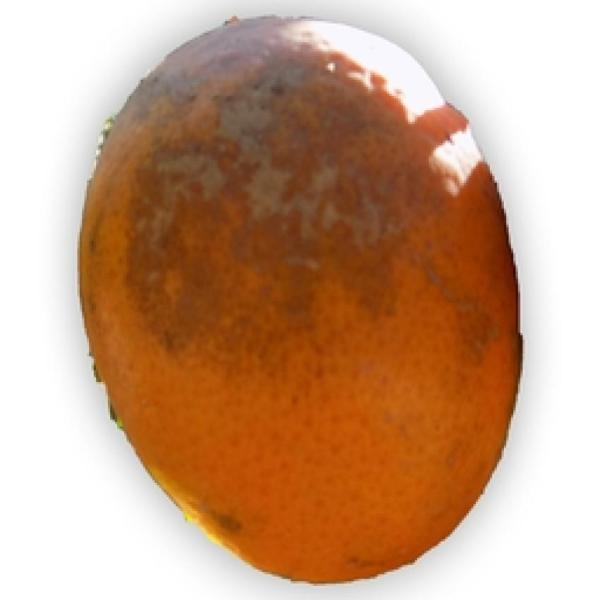Canker: (52, 10, 547, 591)
